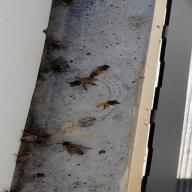Bee: (60, 138, 91, 159), (92, 97, 130, 112), (86, 62, 121, 78)
